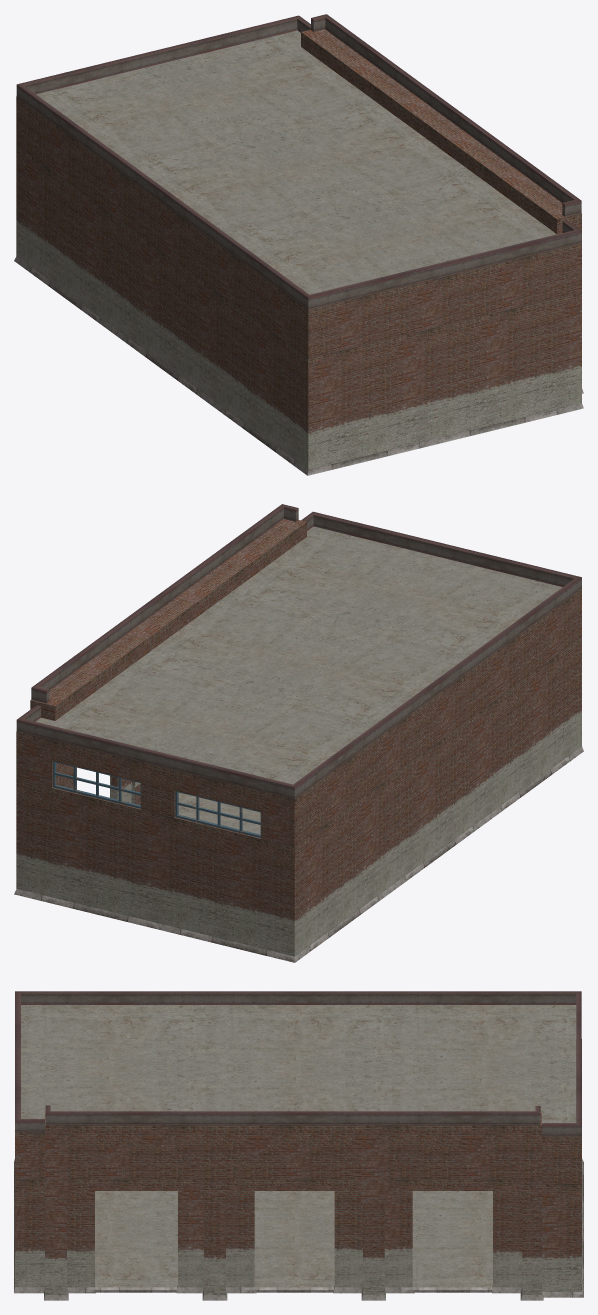
Rendered from Building_Factoryhouse01_2048.glb.
3 renders of one model, top to bottom at view 1: azimuth 30°, elevation 25°; view 2: azimuth 150°, elevation 25°; view 3: azimuth 270°, elevation 25°, orthographic. The views are drawn at different scales.
Parts seen in each view (by area): view 1: xiutz_factoryhouse_01; view 2: xiutz_factoryhouse_01; view 3: xiutz_factoryhouse_01.
Boxes of the visible parts, x1,y1,x2,y2 form: xiutz_factoryhouse_01: (14,14,583,475); xiutz_factoryhouse_01: (14,504,583,962); xiutz_factoryhouse_01: (14,991,583,1300).
Size of the model in its own units: 20.45 by 12.88 by 35.65.
1 material, 1 textured.
